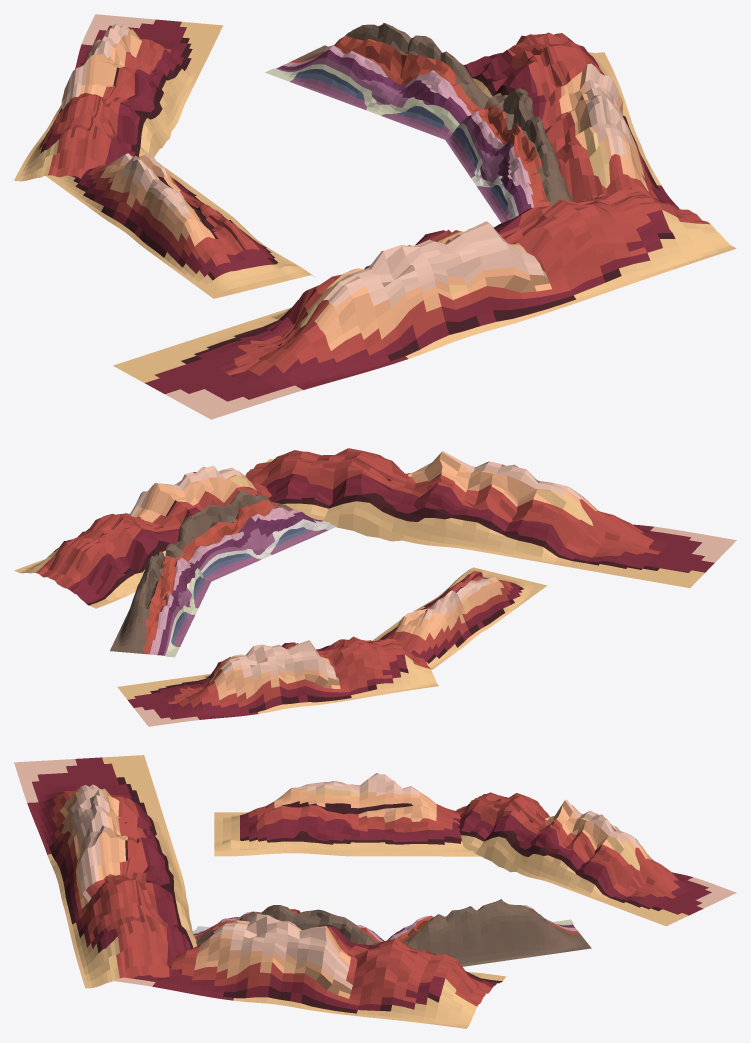
Rendered from Cerros3b.fbx.
3 views of the same model, one above another, from view 1: azimuth 30°, elevation 25°; view 2: azimuth 150°, elevation 25°; view 3: azimuth 270°, elevation 25° (orthographic). The views are drawn at different scales.
Visible parts, largest first — view 1: CerroHornocal2.002, CerroHornocal2, CerroHornocal2.001, CerroHornocal1, CerroSiete1, CerroSiete1.001; view 2: CerroHornocal2.002, CerroHornocal2, CerroHornocal2.001, CerroSiete1.001, CerroHornocal1, CerroSiete1; view 3: CerroHornocal2.002, CerroHornocal2.001, CerroHornocal2, CerroHornocal1, CerroSiete1, CerroSiete1.001.
Part boxes in pixels (box(x1,y1,x2,y2)): CerroHornocal2.002: box(113, 189, 736, 419); CerroHornocal2: box(14, 14, 223, 181); CerroHornocal2.001: box(464, 32, 708, 256); CerroHornocal1: box(46, 153, 315, 298); CerroSiete1: box(265, 23, 489, 139); CerroSiete1.001: box(444, 88, 573, 223); CerroHornocal2.002: box(245, 448, 736, 587); CerroHornocal2: box(117, 636, 438, 726); CerroHornocal2.001: box(14, 465, 271, 608); CerroSiete1.001: box(165, 489, 336, 582); CerroHornocal1: box(372, 567, 547, 670); CerroSiete1: box(110, 551, 210, 657); CerroHornocal2.002: box(14, 755, 196, 988); CerroHornocal2.001: box(85, 914, 506, 1028); CerroHornocal2: box(456, 792, 736, 926); CerroHornocal1: box(214, 773, 480, 856); CerroSiete1: box(387, 899, 591, 966); CerroSiete1.001: box(193, 905, 383, 945).
Size of the model in its own units: 144860 by 17130 by 161604.
